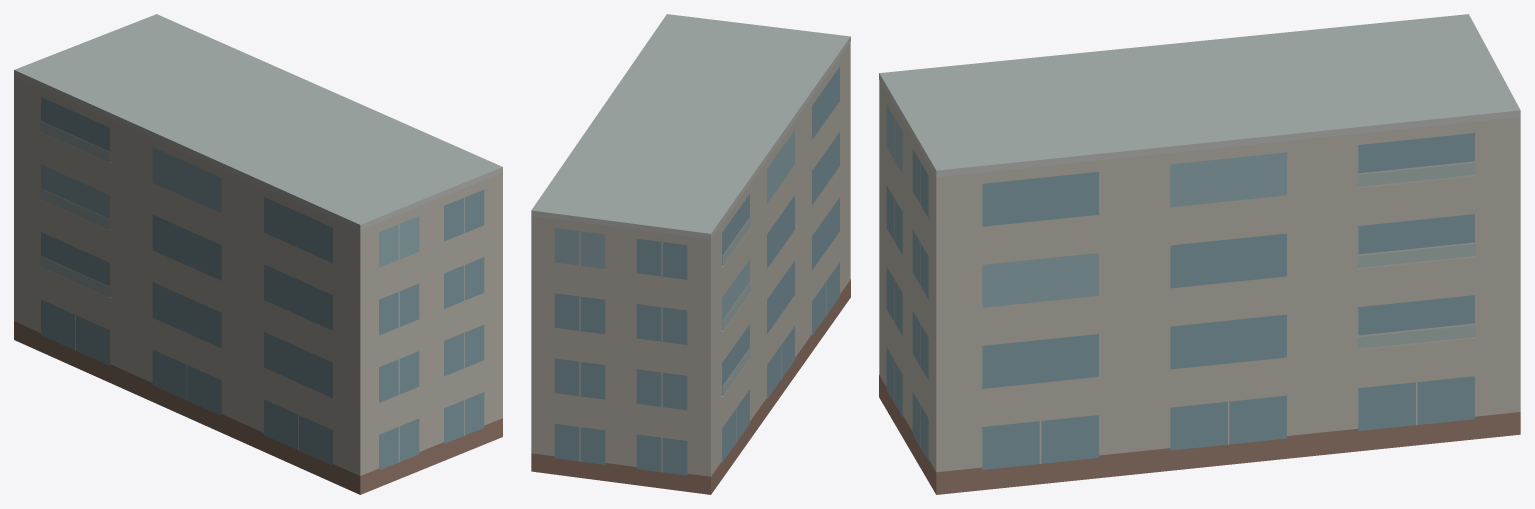
File: survey-upis-32700317.glb
3 views of the same model, side by side, from view 1: azimuth 30°, elevation 25°; view 2: azimuth 150°, elevation 25°; view 3: azimuth 270°, elevation 25° (orthographic). The views are drawn at different scales.
Parts seen in each view (by area): view 1: survey-upis-32700317.tmp; view 2: survey-upis-32700317.tmp; view 3: survey-upis-32700317.tmp.
Boxes of the visible parts, bbox=[...] form: survey-upis-32700317.tmp: bbox=[14, 14, 502, 494]; survey-upis-32700317.tmp: bbox=[531, 14, 850, 494]; survey-upis-32700317.tmp: bbox=[879, 14, 1520, 494].
Size of the model in its own units: 12.65 by 12.2 by 21.88.
